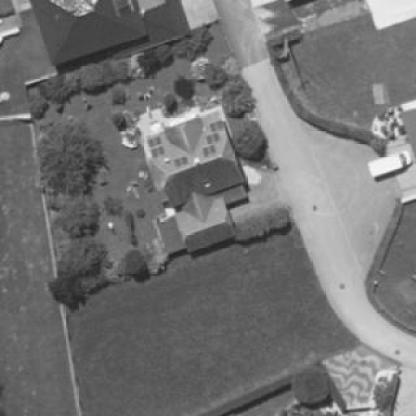solar-pv-panel: (175, 155, 189, 168)
